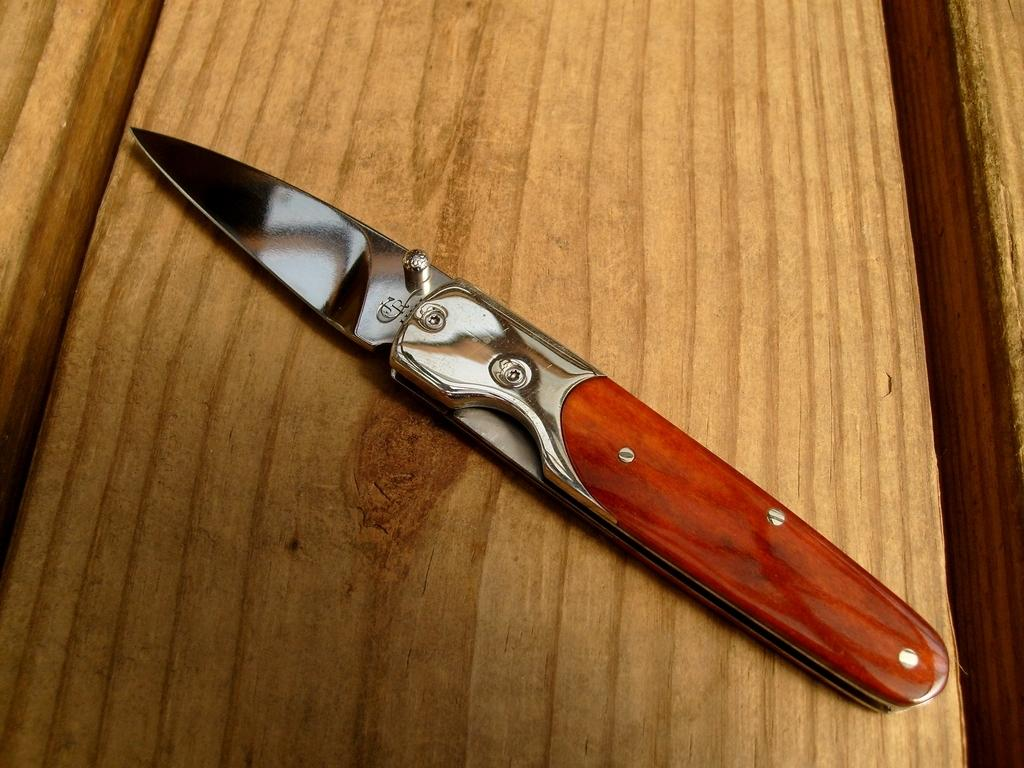Knife: (128, 126, 950, 717)
